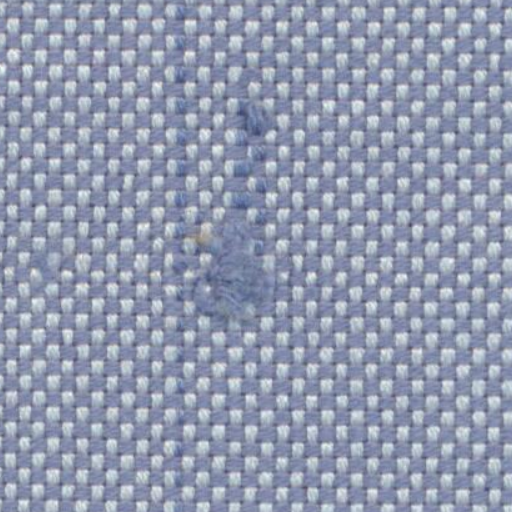DuanSha: (196, 94, 304, 336)
